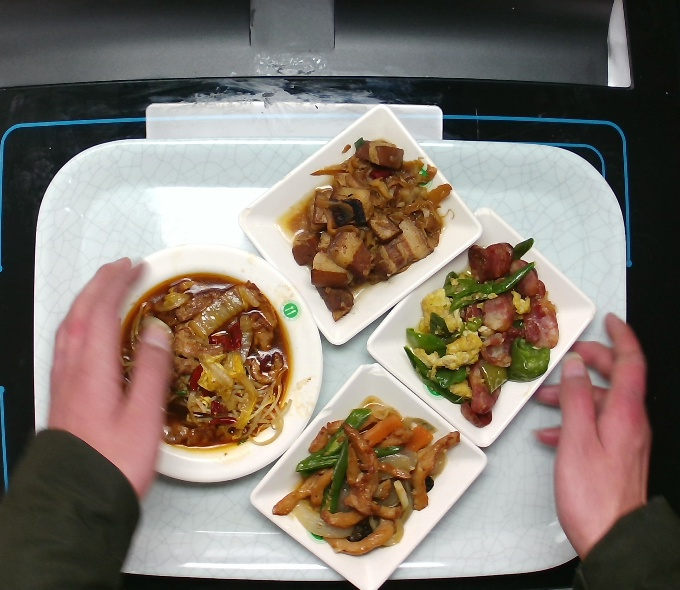wcq-HongShaoRou: (274, 137, 452, 322)
wcq-QingJiaoJiDanChaoDaChang: (402, 235, 561, 429)
wcq-QingJiaoRouSi: (269, 397, 463, 557)
